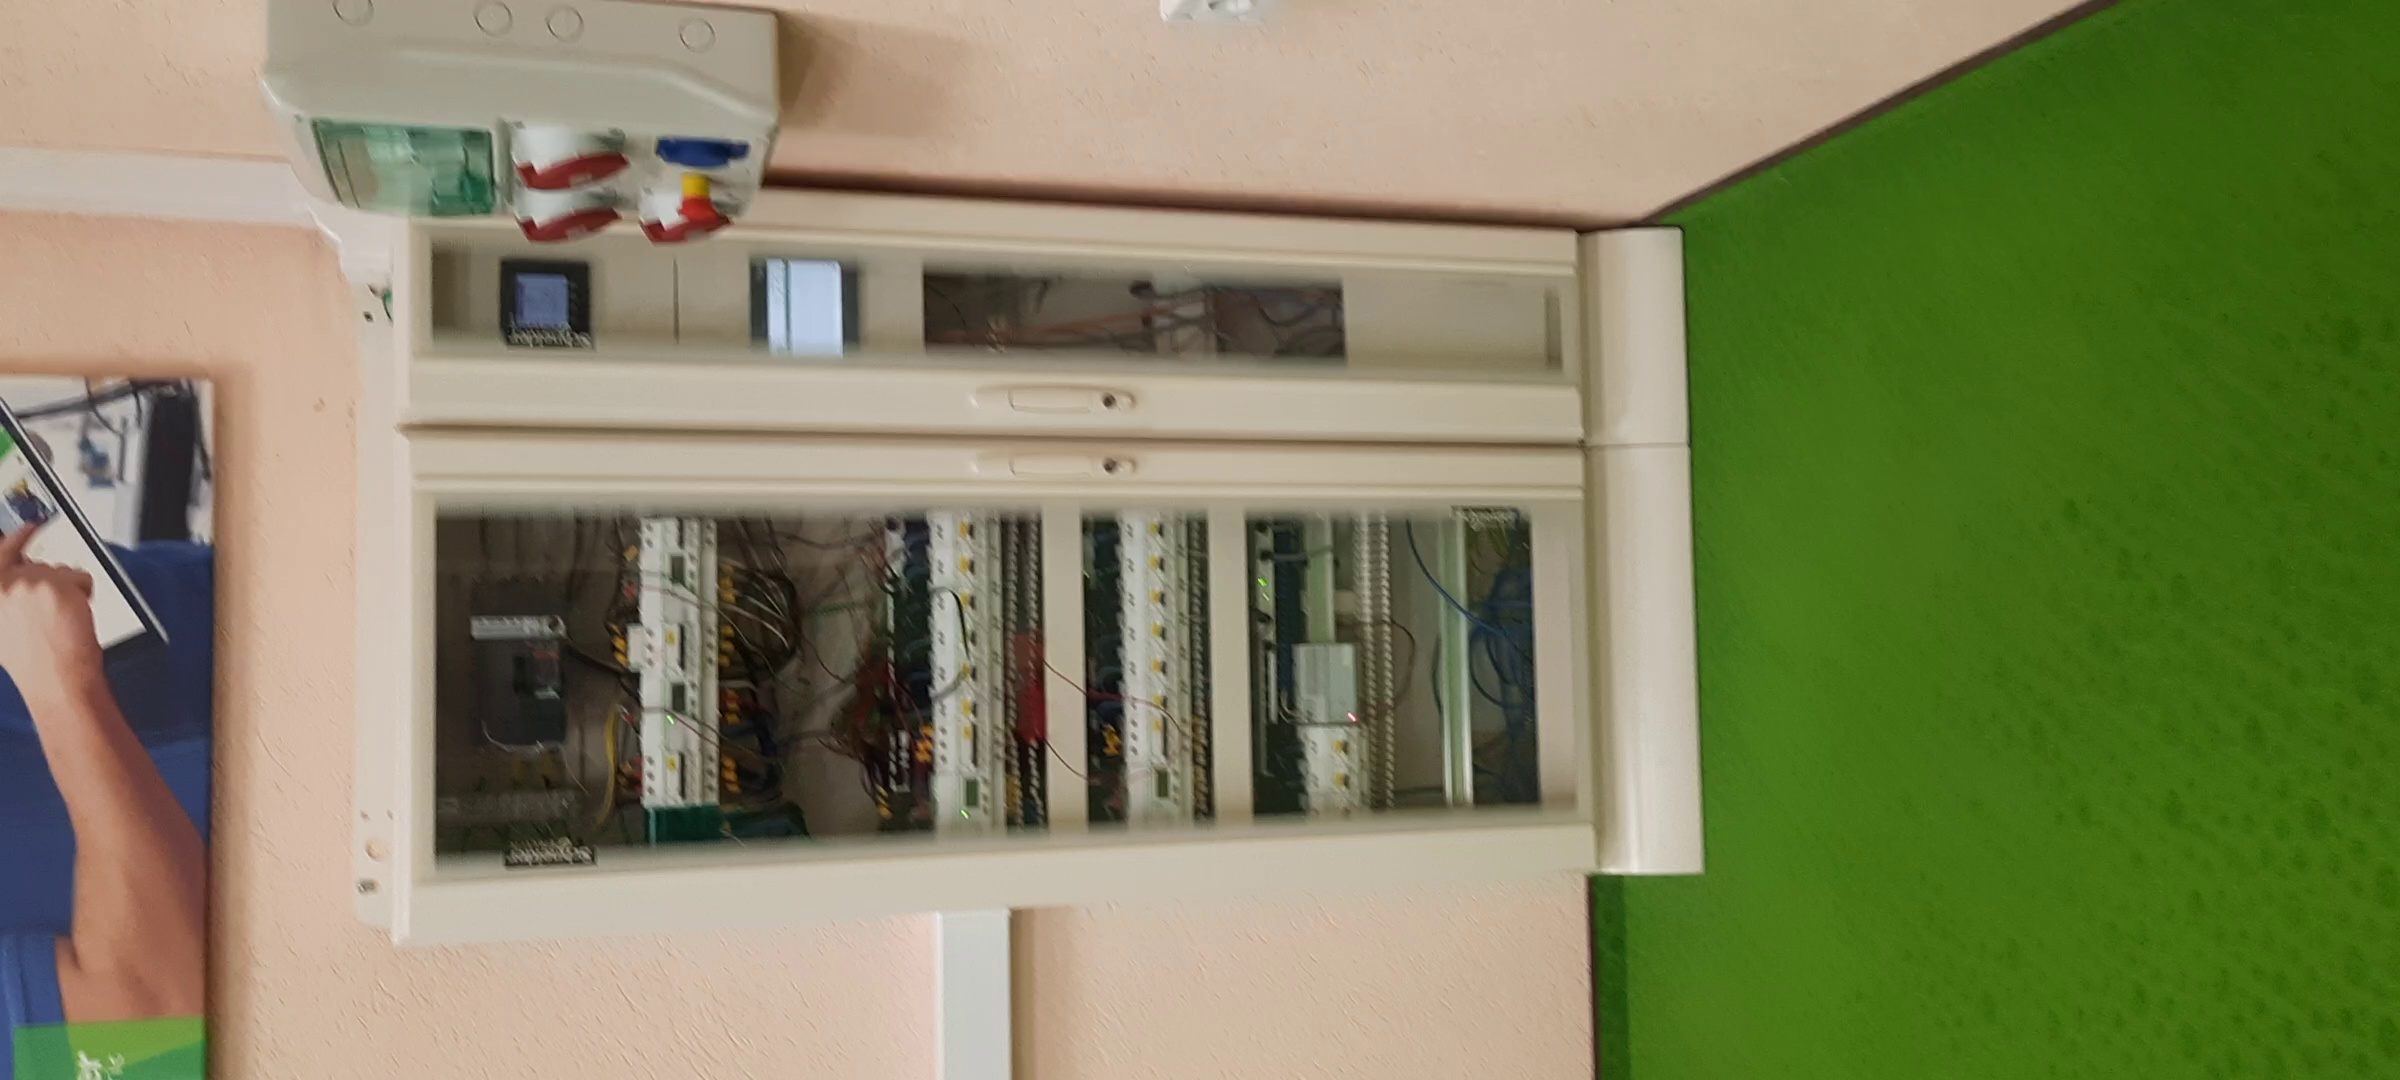stand1: (373, 203, 1705, 899)
